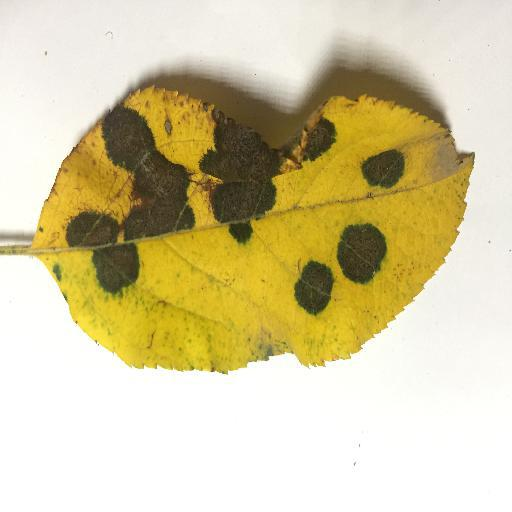Brown_Spot: (198, 103, 275, 243), (100, 121, 191, 234), (336, 228, 387, 287), (358, 139, 405, 197), (89, 253, 144, 293), (289, 267, 329, 316), (298, 120, 336, 161), (70, 215, 121, 245)
